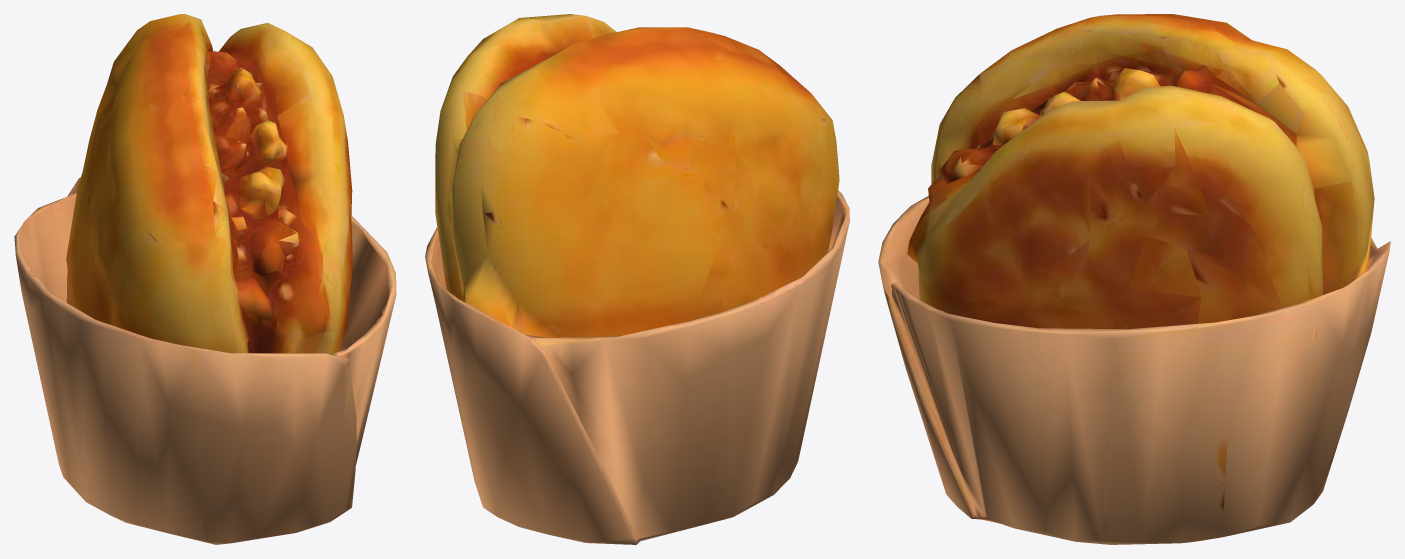
The picture shows the model from 3 angles, left to right: view 1: azimuth 30°, elevation 25°; view 2: azimuth 150°, elevation 25°; view 3: azimuth 270°, elevation 25°; orthographic projection. The views are drawn at different scales.
Parts seen in each view (by area): view 1: hotteok; view 2: hotteok; view 3: hotteok.
Boxes of the visible parts, box(x1,y1,x2,y2) form: hotteok: box(14, 14, 396, 544); hotteok: box(425, 14, 849, 544); hotteok: box(878, 14, 1390, 544).
Bounding box in the file's own units: 0.133 × 0.1703 × 0.1702.
1 material, 1 textured.
